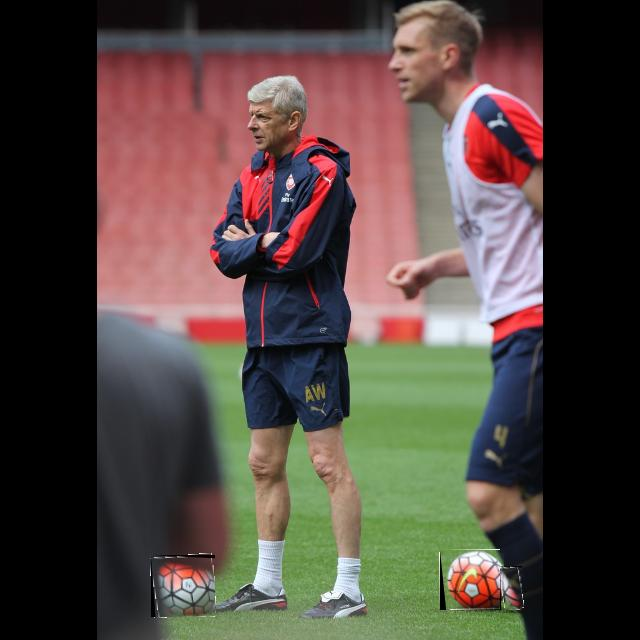Football: (151, 555, 215, 617), (440, 550, 504, 610), (500, 566, 522, 610)
